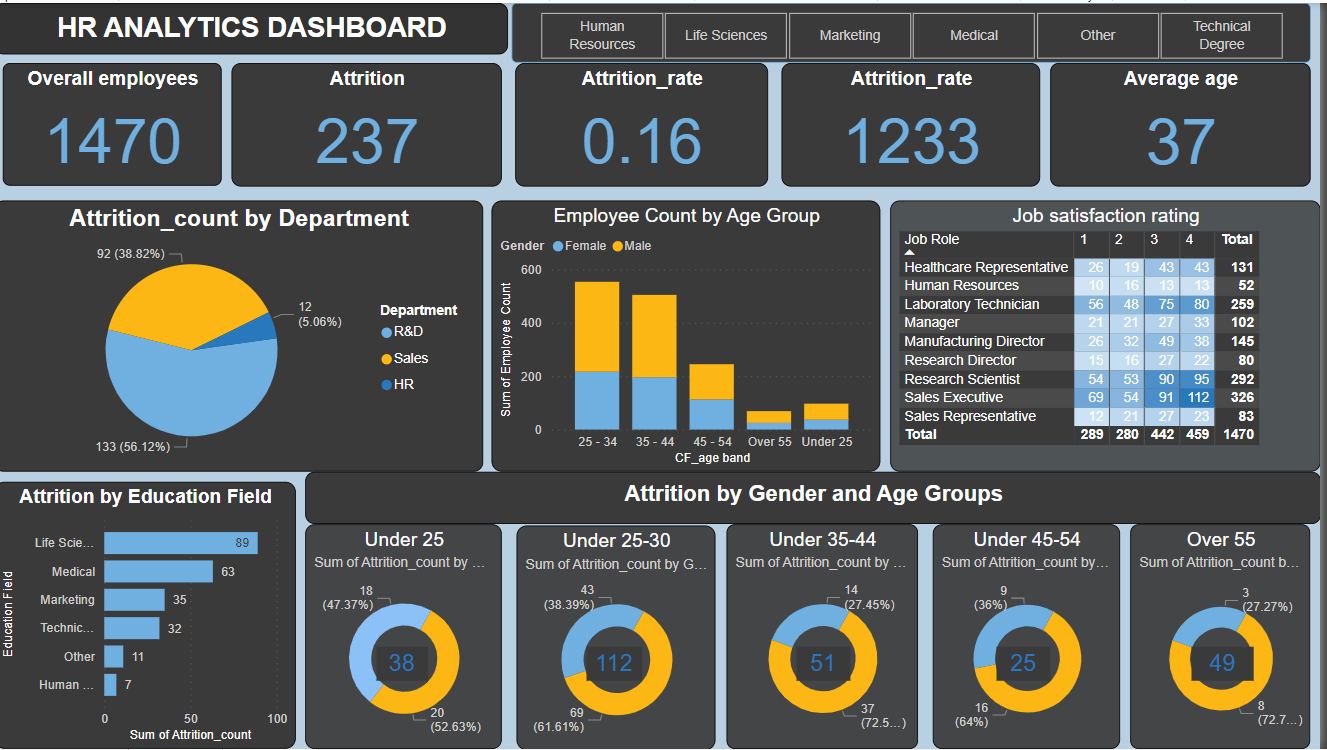

The page's visual inventory and layout, read from the dashboard file:
{"tool":"powerbi","page":{"name":"Page 1","canvas":[1280,720],"ordinal":0},"visuals":[{"type":"card","title":"Overall employees","fields":{"Values":["Sum(HR data.Employee Count)"]},"box":[8.4,57.9,211.1,118.2],"z":0},{"type":"card","title":"Attrition","fields":{"Values":["Sum(HR data.Attrition_count)"]},"box":[229.2,57.9,260.6,119.4],"z":1000},{"type":"card","title":"Attrition_rate","fields":{"Values":["HR data.Attition_rate"]},"box":[503.1,57.9,243.7,119.4],"z":2000},{"type":"card","title":"Attrition_rate","fields":{"Values":["HR data.Active employees"]},"box":[760.1,57.9,249.7,119.4],"z":3000},{"type":"card","title":"Average age","fields":{"Values":["Avg(HR data.Age)"]},"box":[1019.4,57.9,250.9,119.4],"z":4000},{"type":"pieChart","title":"Attrition_count by Department","fields":{"Category":["HR data.Department"],"Y":["Sum(HR data.Attrition_count)"]},"box":[0,190.6,471.7,261.8],"z":5000},{"type":"columnChart","title":"Employee Count by Age Group","fields":{"Category":["HR data.CF_age band"],"Y":["Sum(HR data.Employee Count)"],"Series":["HR data.Gender"]},"box":[480.2,190.6,375.2,261.8],"z":6000},{"type":"pivotTable","title":"Job satisfaction rating","fields":{"Rows":["HR data.Job Role"],"Columns":["HR data.Job Satisfaction"],"Values":["Sum(HR data.Employee Count)"]},"box":[865,190.6,415,261.8],"z":7000},{"type":"barChart","title":"Attrition by Education Field","fields":{"Category":["HR data.Education Field"],"Y":["Sum(HR data.Attrition_count)"]},"box":[0,462.4,290.9,258],"z":8000},{"type":"donutChart","title":"Under 25","fields":{"Category":["HR data.Gender"],"Y":["Sum(HR data.Attrition_count)"],"Series":["HR data.CF_age band"]},"box":[300.4,503.1,189.4,217.2],"z":9000},{"type":"textbox","box":[300.4,452.4,979.6,50.7],"z":10000},{"type":"donutChart","title":"Under 25-30","fields":{"Category":["HR data.Gender"],"Y":["Sum(HR data.Attrition_count)"],"Series":["HR data.CF_age band"]},"box":[503.6,503.6,192.1,216.8],"z":11000},{"type":"donutChart","title":"Under 35-44","fields":{"Category":["HR data.Gender"],"Y":["Sum(HR data.Attrition_count)"],"Series":["HR data.CF_age band"]},"box":[707,503.1,184.6,217.2],"z":12000},{"type":"donutChart","title":"Under 45-54","fields":{"Category":["HR data.Gender"],"Y":["Sum(HR data.Attrition_count)"],"Series":["HR data.CF_age band"]},"box":[906,503.1,181,217.2],"z":13000},{"type":"donutChart","title":"Over 55","fields":{"Category":["HR data.Gender"],"Y":["Sum(HR data.Attrition_count)"],"Series":["HR data.CF_age band"]},"box":[1096.7,503.1,173.7,217.2],"z":14000},{"type":"textbox","box":[0,0,495.8,49.5],"z":15000},{"type":"slicer","fields":{"Values":["HR data.Education Field"]},"box":[499.5,0,770.9,57.9],"z":16000},{"type":"card","fields":{"Values":["Sum(HR data.Attrition_count)"]},"box":[369.1,621.6,49.4,32.9],"z":17000},{"type":"card","fields":{"Values":["Sum(HR data.Attrition_count)"]},"box":[572.2,621.6,53.5,32.9],"z":18000},{"type":"card","fields":{"Values":["Sum(HR data.Attrition_count)"]},"box":[773.9,621.6,52.1,32.9],"z":19000},{"type":"card","fields":{"Values":["Sum(HR data.Attrition_count)"]},"box":[967.4,621.6,52.1,32.9],"z":20000},{"type":"card","fields":{"Values":["Sum(HR data.Attrition_count)"]},"box":[1155.4,621.6,60.4,32.9],"z":21000}]}

Visuals, with their boxes in screenshot pixels (x1, y1, x2, y2), scaled from the page's 1280x720 canvas onto the 1327x750 screenshot:
"Overall employees" card: x1=9, y1=60, x2=228, y2=183
"Attrition" card: x1=238, y1=60, x2=508, y2=185
"Attrition_rate" card: x1=522, y1=60, x2=774, y2=185
"Attrition_rate" card: x1=788, y1=60, x2=1047, y2=185
"Average age" card: x1=1057, y1=60, x2=1317, y2=185
"Attrition_count by Department" pieChart: x1=0, y1=199, x2=489, y2=471
"Employee Count by Age Group" columnChart: x1=498, y1=199, x2=887, y2=471
"Job satisfaction rating" pivotTable: x1=897, y1=199, x2=1326, y2=471
"Attrition by Education Field" barChart: x1=0, y1=482, x2=302, y2=749
"Under 25" donutChart: x1=311, y1=524, x2=508, y2=749
textbox: x1=311, y1=471, x2=1326, y2=524
"Under 25-30" donutChart: x1=522, y1=525, x2=721, y2=749
"Under 35-44" donutChart: x1=733, y1=524, x2=924, y2=749
"Under 45-54" donutChart: x1=939, y1=524, x2=1127, y2=749
"Over 55" donutChart: x1=1137, y1=524, x2=1317, y2=749
textbox: x1=0, y1=0, x2=514, y2=52
slicer - HR data.Education Field: x1=518, y1=0, x2=1317, y2=60
card - Sum(HR data.Attrition_count): x1=383, y1=648, x2=434, y2=682
card - Sum(HR data.Attrition_count): x1=593, y1=648, x2=649, y2=682
card - Sum(HR data.Attrition_count): x1=802, y1=648, x2=856, y2=682
card - Sum(HR data.Attrition_count): x1=1003, y1=648, x2=1057, y2=682
card - Sum(HR data.Attrition_count): x1=1198, y1=648, x2=1260, y2=682
